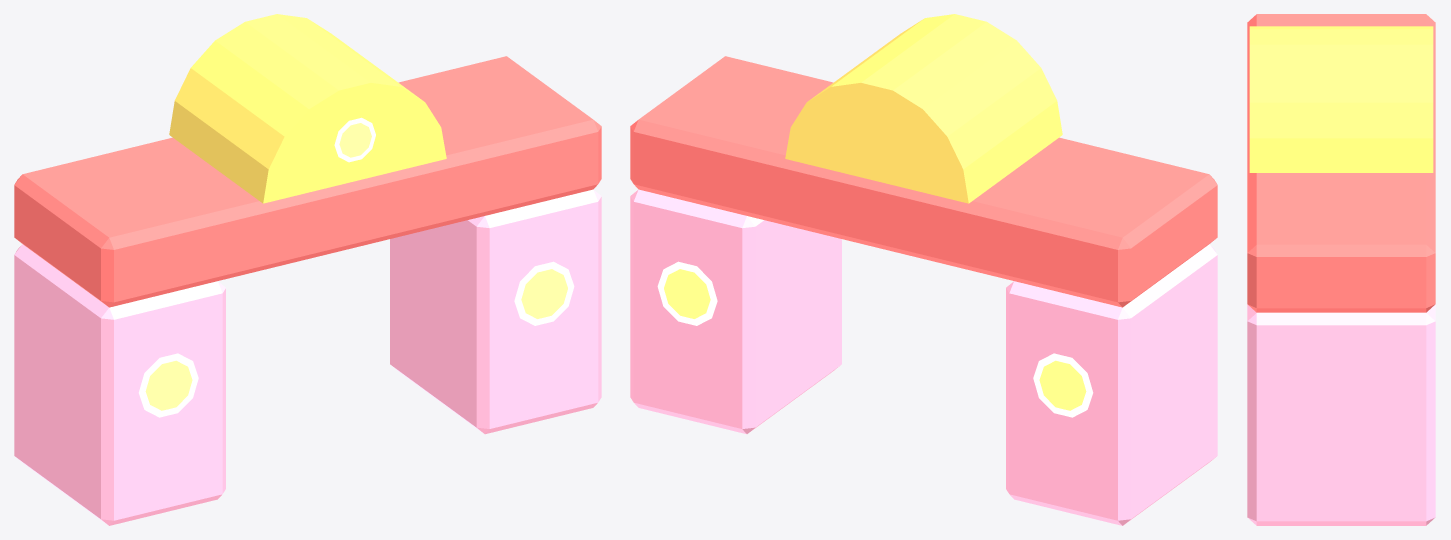
File: block-house-c.glb
3 renders of one model, left to right at view 1: azimuth 30°, elevation 25°; view 2: azimuth 150°, elevation 25°; view 3: azimuth 270°, elevation 25°, orthographic. The views are drawn at different scales.
Visible parts, largest first — view 1: block-house-c; view 2: block-house-c; view 3: block-house-c.
Boxes of the visible parts, bbox=[...] form: block-house-c: bbox=[14, 14, 601, 525]; block-house-c: bbox=[630, 14, 1217, 525]; block-house-c: bbox=[1247, 14, 1435, 525].
Size of the model in its own units: 12 by 8.77 by 4.06.
